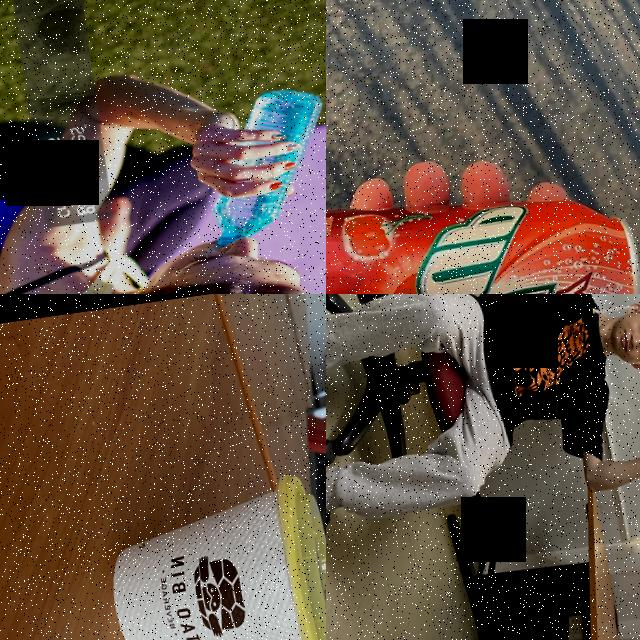bottle: (178, 80, 326, 249)
can: (326, 163, 640, 294)
cup: (97, 465, 326, 640)
